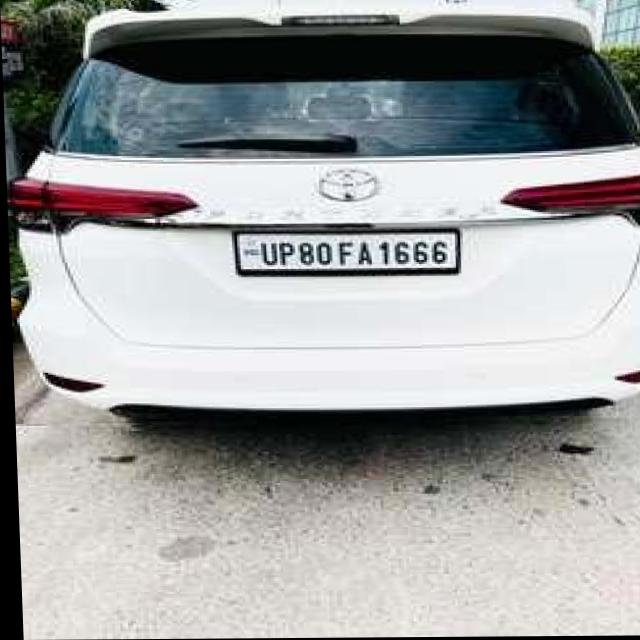0: (314, 245, 332, 267)
1: (377, 244, 389, 266)
6: (427, 242, 447, 264), (392, 242, 410, 265), (410, 242, 428, 263)
8: (296, 245, 313, 266)
a: (355, 243, 371, 266)
f: (338, 244, 352, 265)
p: (277, 244, 293, 269)
u: (256, 240, 277, 265)
